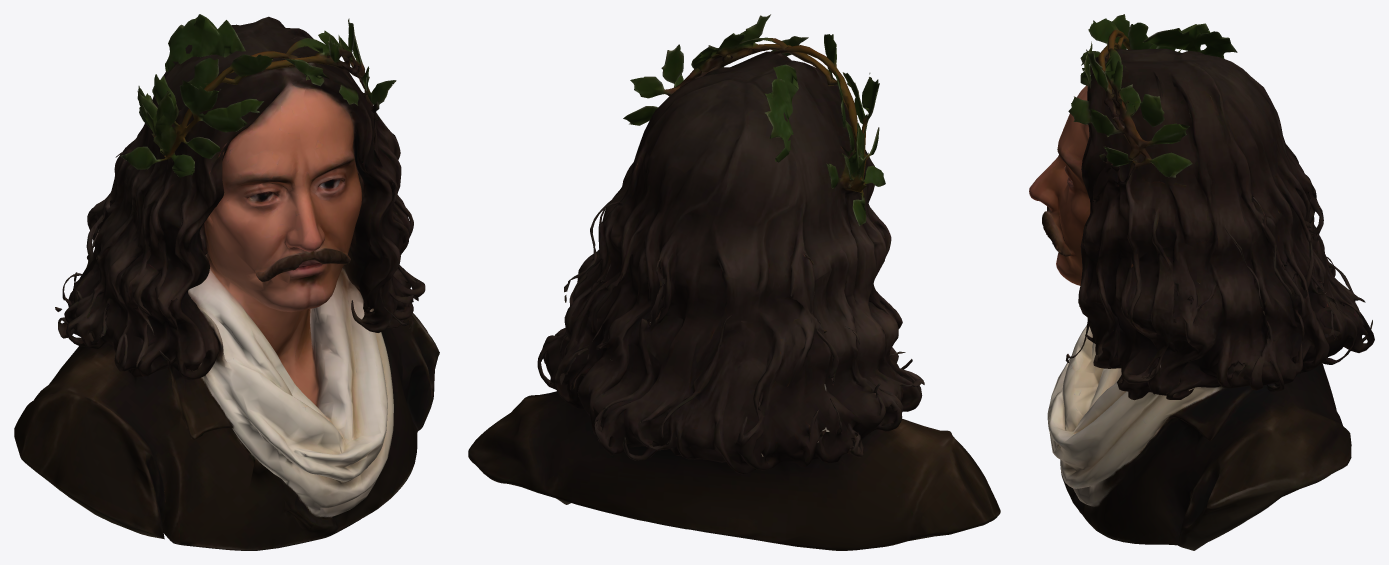
File: birken.glb
3 views of the same model, side by side, from view 1: azimuth 30°, elevation 25°; view 2: azimuth 150°, elevation 25°; view 3: azimuth 270°, elevation 25° (orthographic). The views are drawn at different scales.
Parts seen in each view (by area): view 1: geometry_0; view 2: geometry_0; view 3: geometry_0.
Boxes of the visible parts, x1,y1,x2,y2 form: geometry_0: (14,14,439,550); geometry_0: (468,14,1000,550); geometry_0: (1029,14,1374,550).
Bounding box in the file's own units: 0.9252 × 1 × 0.6759.
Materials: 1 (1 with a texture image).
